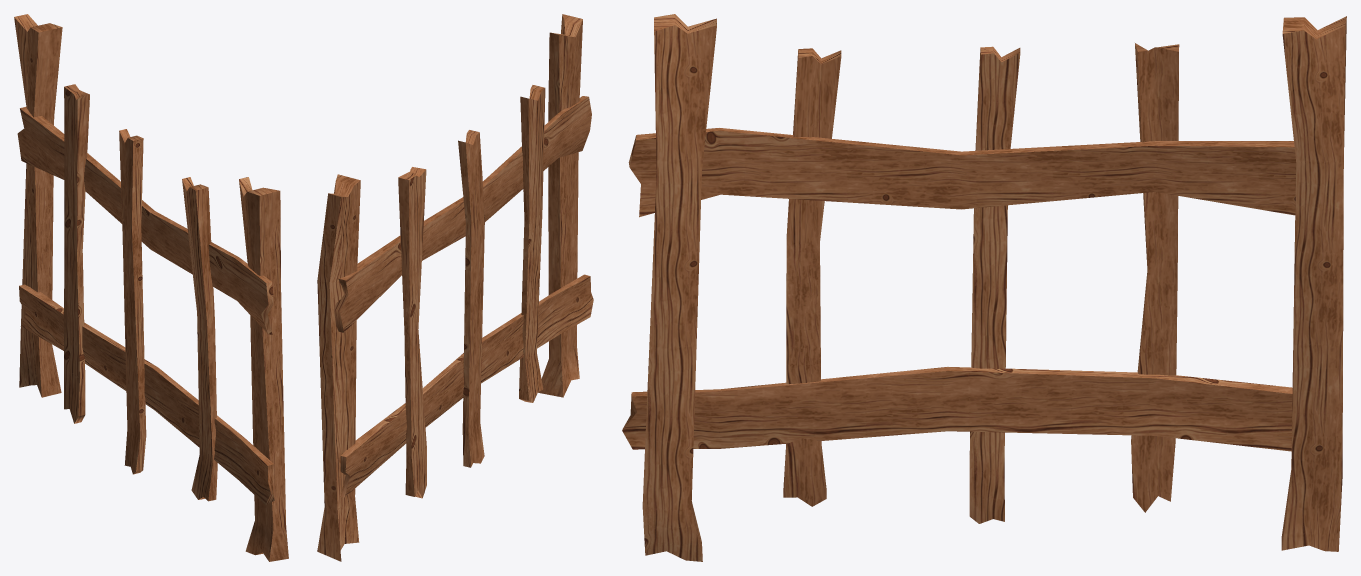
File: plot.fbx
3 views of the same model, side by side, from view 1: azimuth 30°, elevation 25°; view 2: azimuth 150°, elevation 25°; view 3: azimuth 270°, elevation 25° (orthographic). The views are drawn at different scales.
Parts seen in each view (by area): view 1: pasted__pasted__pasted__pasted__pasted__pasted__polySurface1; view 2: pasted__pasted__pasted__pasted__pasted__pasted__polySurface1; view 3: pasted__pasted__pasted__pasted__pasted__pasted__polySurface1.
Boxes of the visible parts, left/top/right/bottom form: pasted__pasted__pasted__pasted__pasted__pasted__polySurface1: left=14, top=14, right=288, bottom=561; pasted__pasted__pasted__pasted__pasted__pasted__polySurface1: left=317, top=14, right=593, bottom=561; pasted__pasted__pasted__pasted__pasted__pasted__polySurface1: left=622, top=14, right=1346, bottom=561.
Size of the model in its own units: 25.2 by 202 by 253.
1 material, 1 textured.
